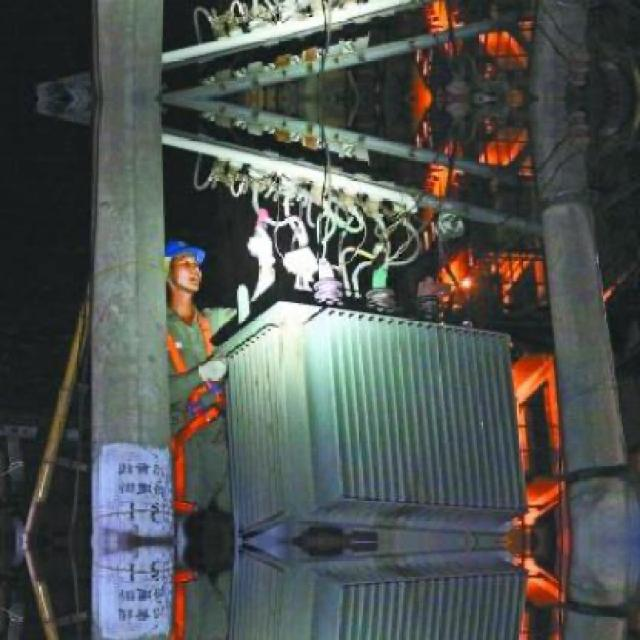con casco: (126, 220, 240, 348)
